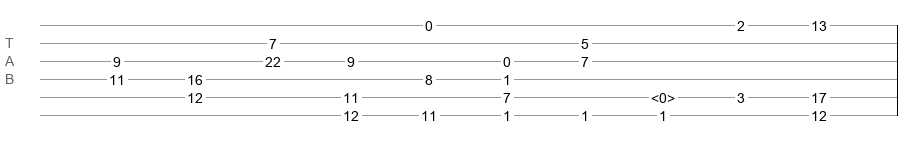0: (425, 18, 433, 28), (503, 54, 511, 64)
1: (503, 72, 511, 82), (503, 108, 511, 118), (581, 108, 589, 118), (659, 108, 667, 118)
11: (109, 72, 125, 82), (343, 90, 359, 100), (421, 108, 437, 118)
12: (187, 90, 203, 100), (343, 108, 359, 118), (811, 108, 827, 118)
13: (811, 18, 827, 28)
16: (187, 72, 203, 82)
17: (811, 90, 827, 100)
2: (737, 18, 745, 28)
22: (265, 54, 281, 64)
3: (737, 90, 745, 100)
5: (581, 36, 589, 46)
7: (269, 36, 277, 46), (503, 90, 511, 100), (581, 54, 589, 64)
8: (425, 72, 433, 82)
9: (113, 54, 121, 64), (347, 54, 355, 64)
harmonic: (651, 90, 675, 100)
